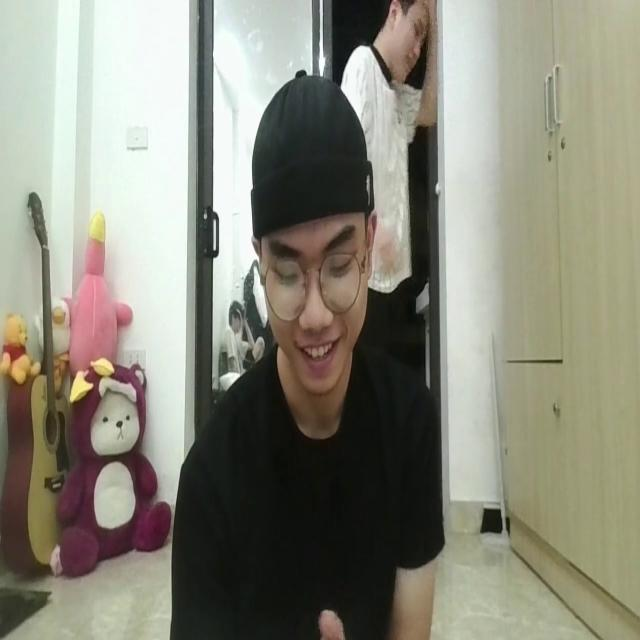extra_person: (349, 0, 441, 307)
student: (173, 61, 436, 640)
